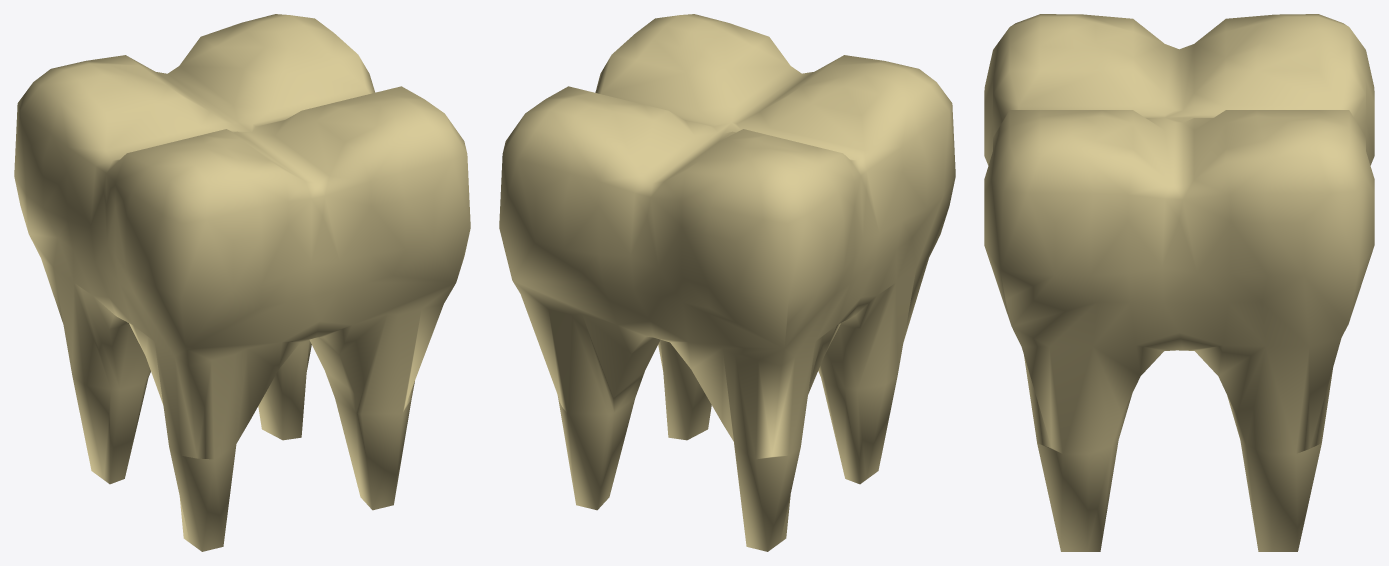
File: backTeeth.obj
3 renders of one model, left to right at view 1: azimuth 30°, elevation 25°; view 2: azimuth 150°, elevation 25°; view 3: azimuth 270°, elevation 25°, orthographic. The views are drawn at different scales.
Visible parts, largest first — view 1: 立方体; view 2: 立方体; view 3: 立方体.
Part boxes in pixels (left/top/right/bottom): 立方体: left=14, top=14, right=470, bottom=551; 立方体: left=499, top=14, right=955, bottom=551; 立方体: left=984, top=14, right=1374, bottom=551.
Size of the model in its own units: 2.3 by 2.77 by 2.3.
1 material, 1 textured.
